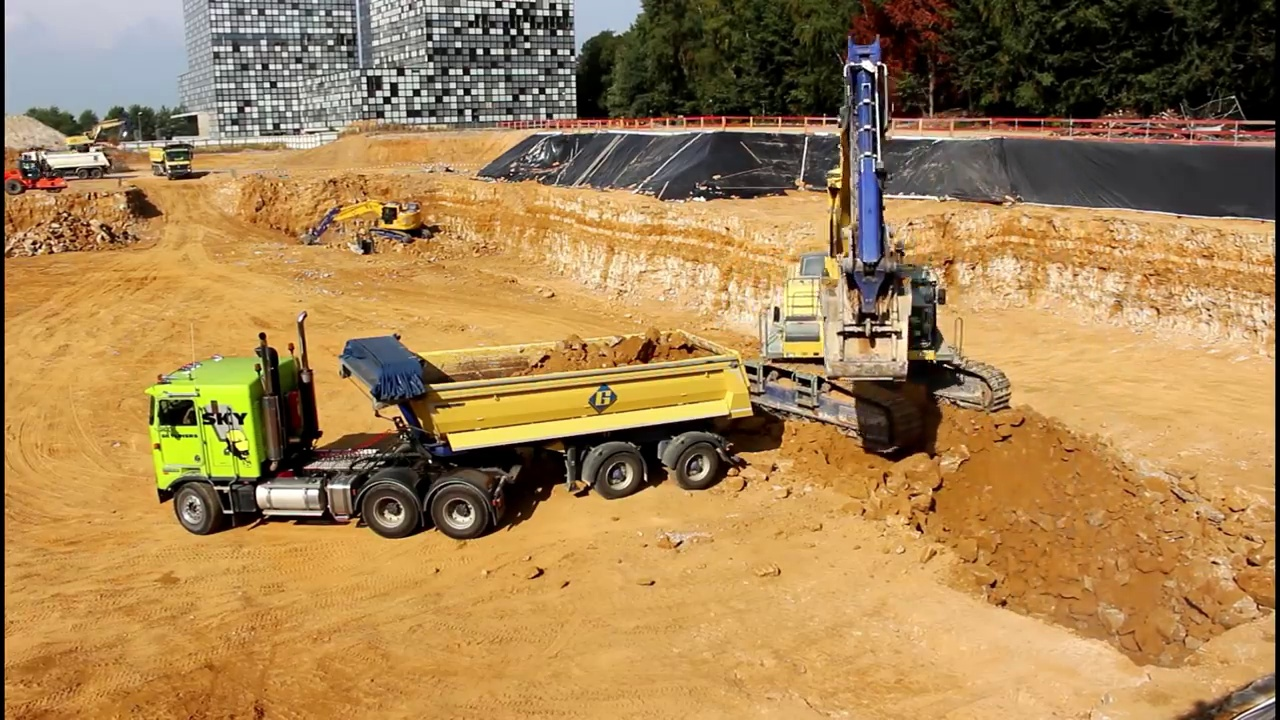compactor: (5, 162, 70, 195)
excavator: (722, 27, 1019, 457), (297, 199, 436, 252), (61, 116, 129, 159)
truck: (139, 307, 757, 544), (19, 145, 112, 182), (146, 140, 199, 181)
